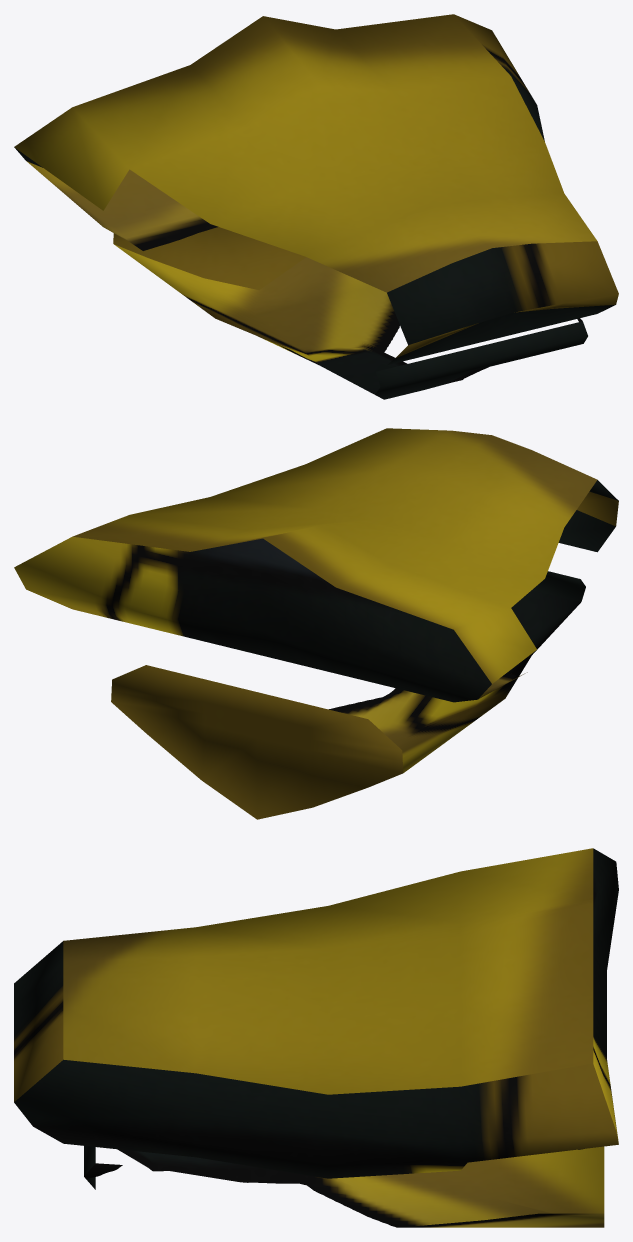
The model's file is BicoDePato.fbx.
3 renders of one model, top to bottom at view 1: azimuth 30°, elevation 25°; view 2: azimuth 150°, elevation 25°; view 3: azimuth 270°, elevation 25°, orthographic. The views are drawn at different scales.
Visible parts, largest first — view 1: BicoDePato; view 2: BicoDePato; view 3: BicoDePato.
Part boxes in pixels (x1,y1,x2,y2): BicoDePato: (14,14,618,399); BicoDePato: (14,428,618,819); BicoDePato: (14,848,618,1227).
Bounding box in the file's own units: 208 × 116 × 197.
